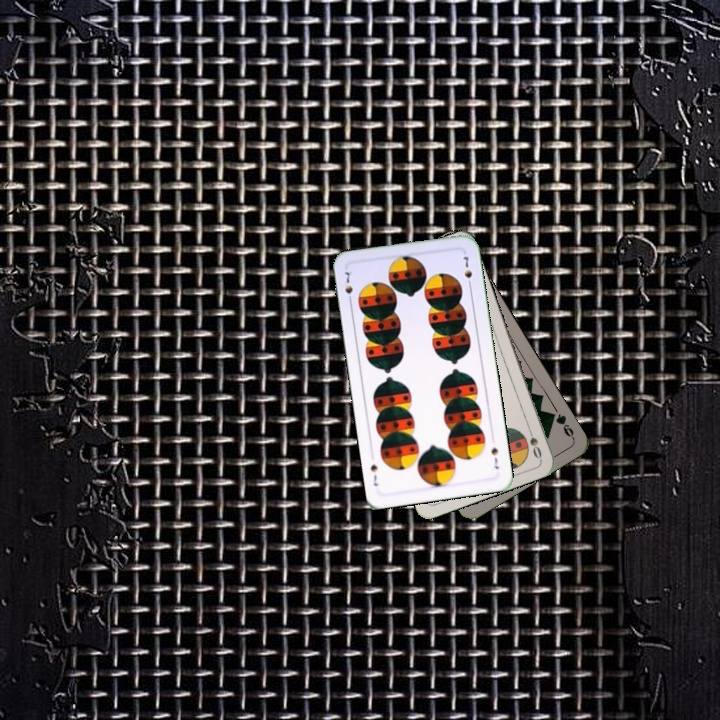G9: (545, 408, 576, 441)
S7: (340, 268, 355, 306), (487, 443, 502, 472)
SO: (523, 422, 544, 462)
